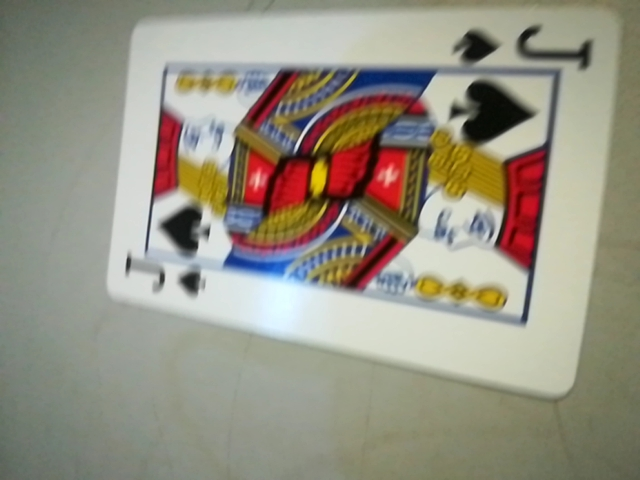ht j: (435, 16, 605, 78)
